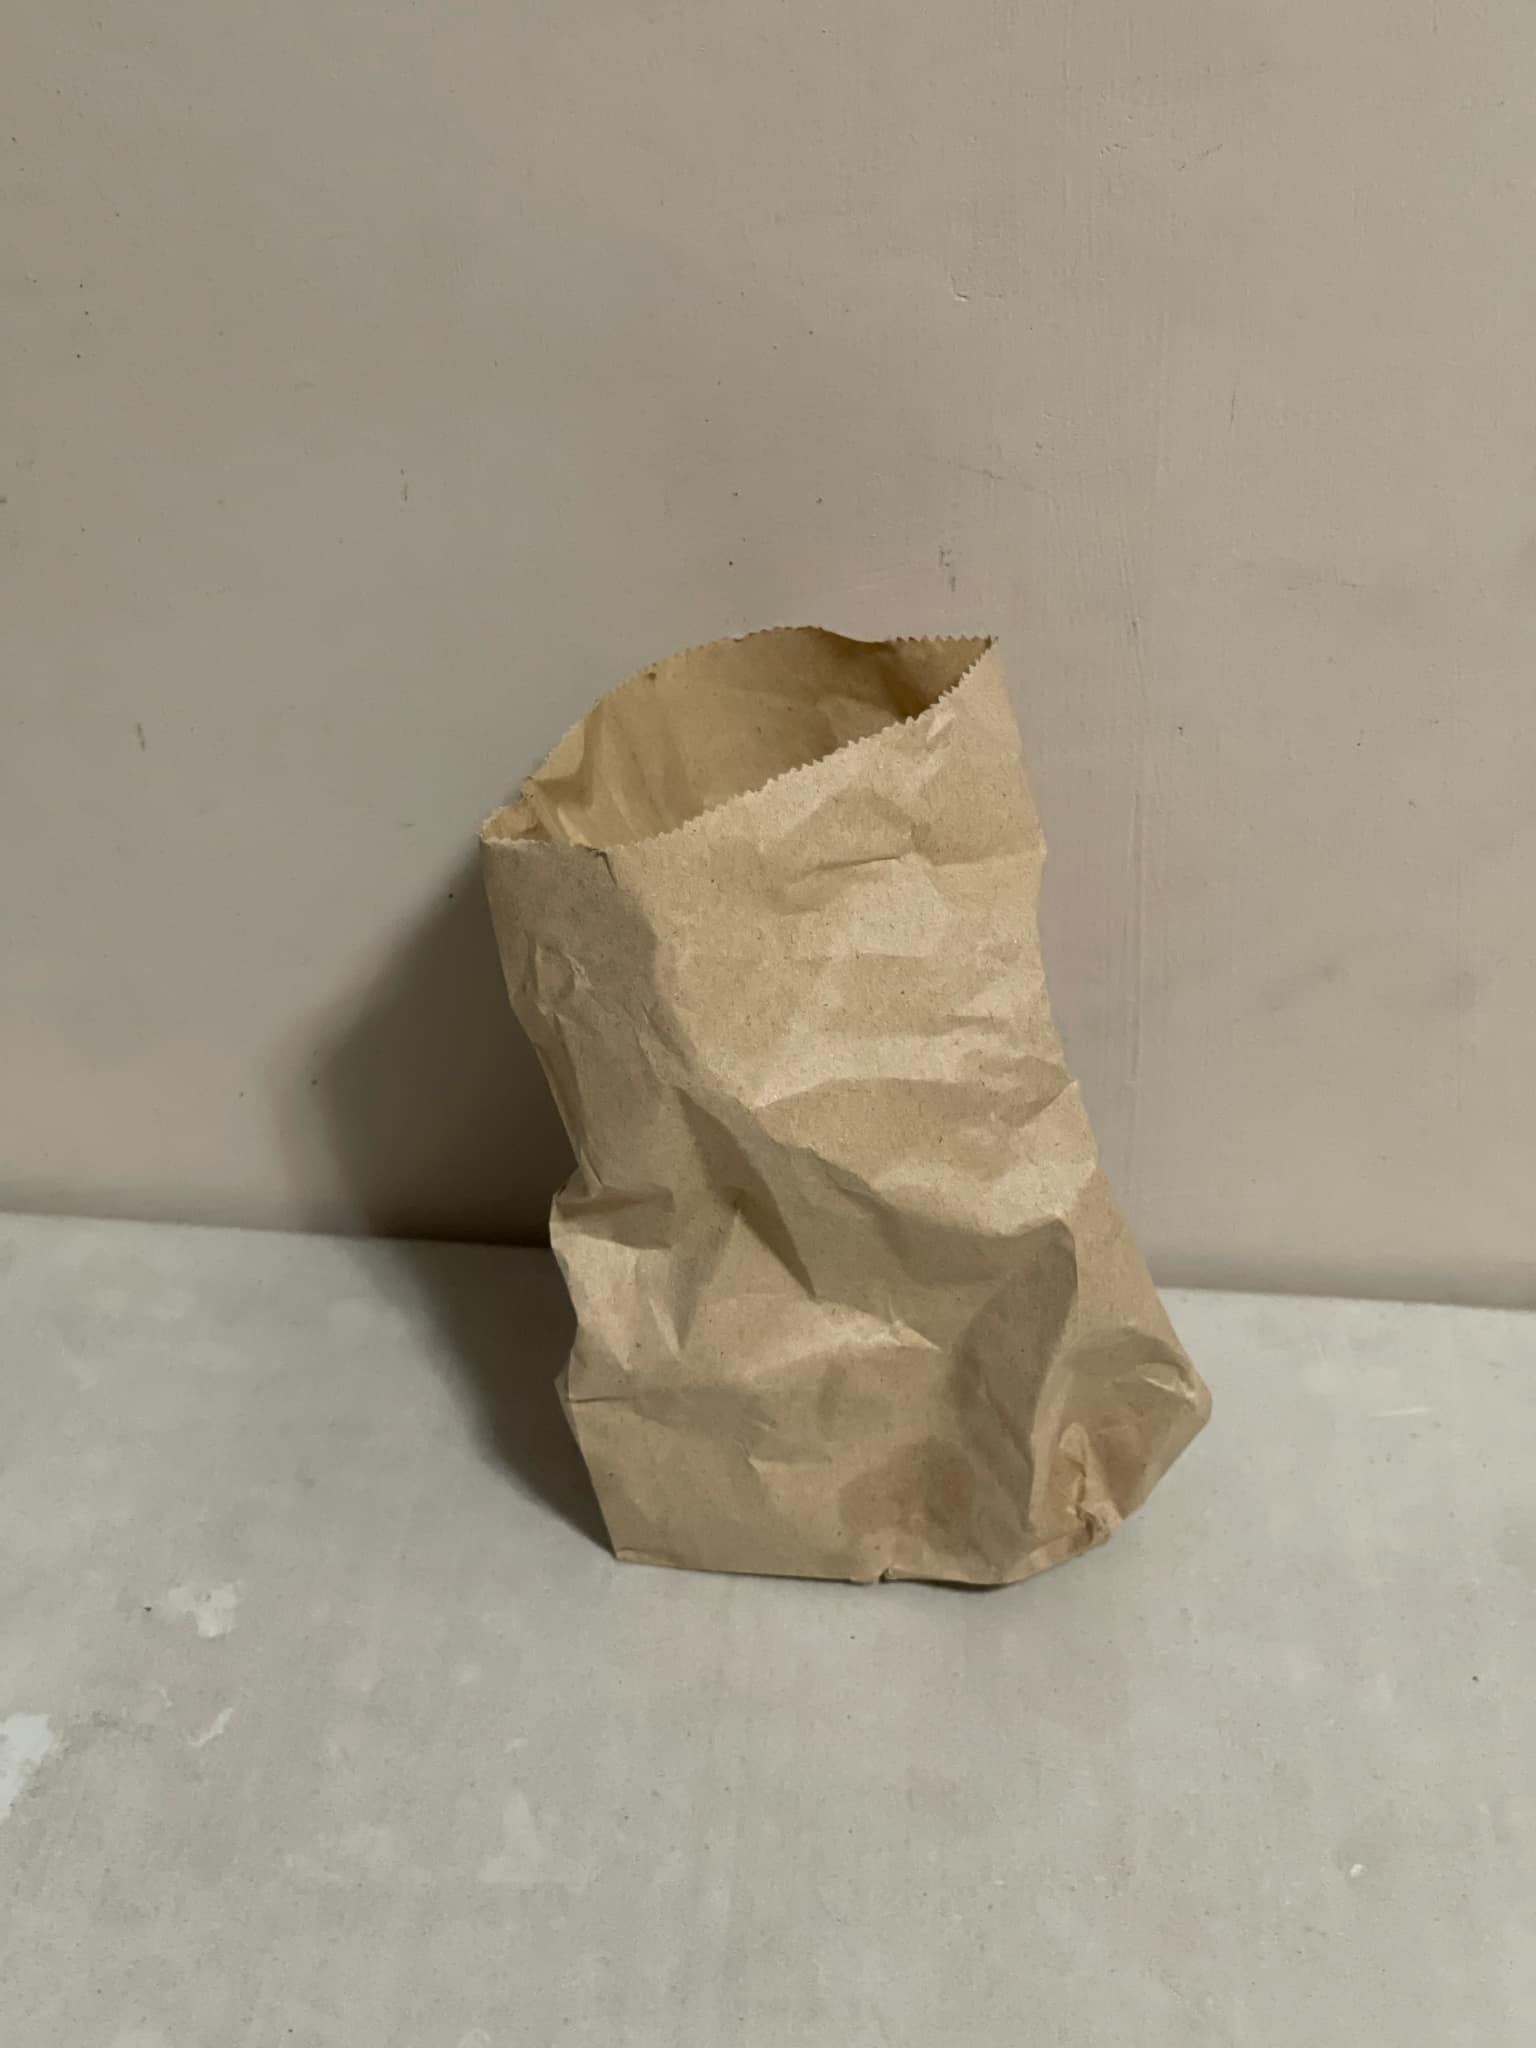Paper Food Packages: (405, 627, 1336, 1727)
